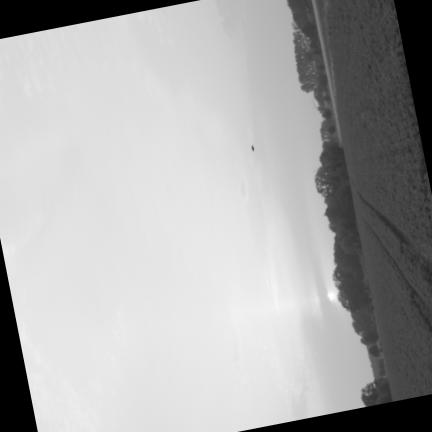Shahed: (251, 144, 254, 151)
